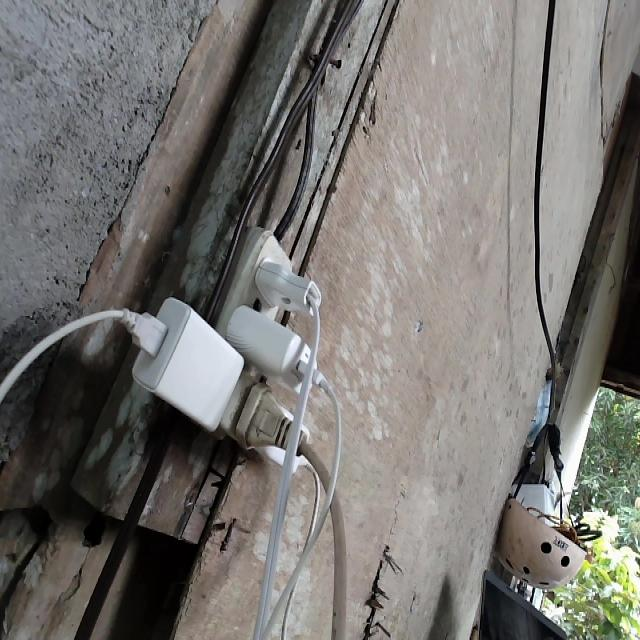-: (112, 223, 345, 465)
